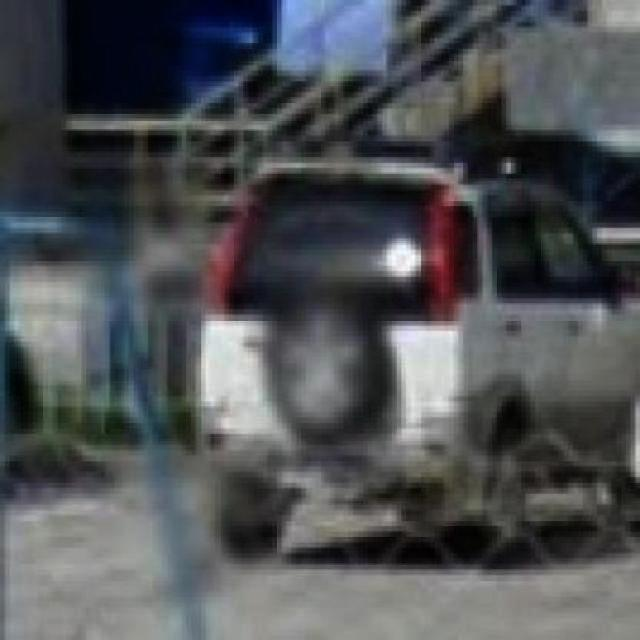car: (197, 154, 640, 571)
